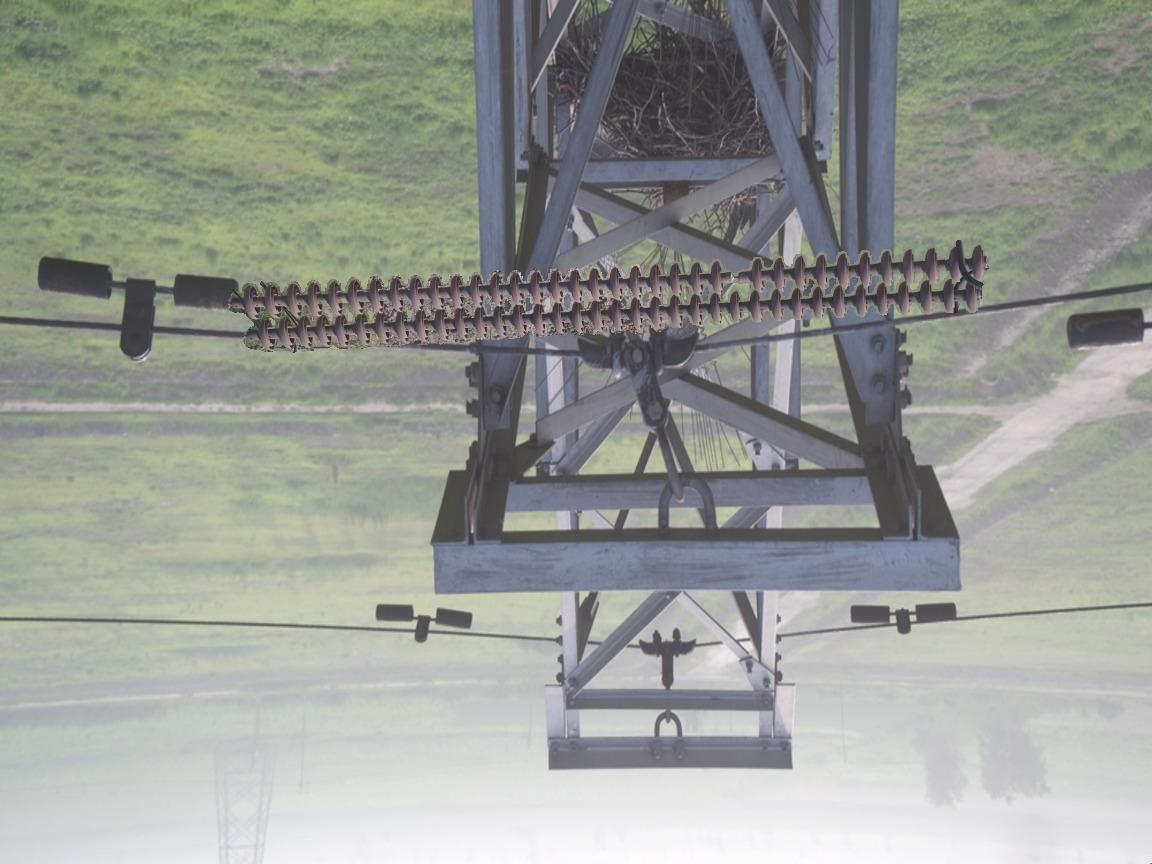insulator: (226, 235, 994, 355)
insulator_stringdrop: (708, 253, 769, 297)
